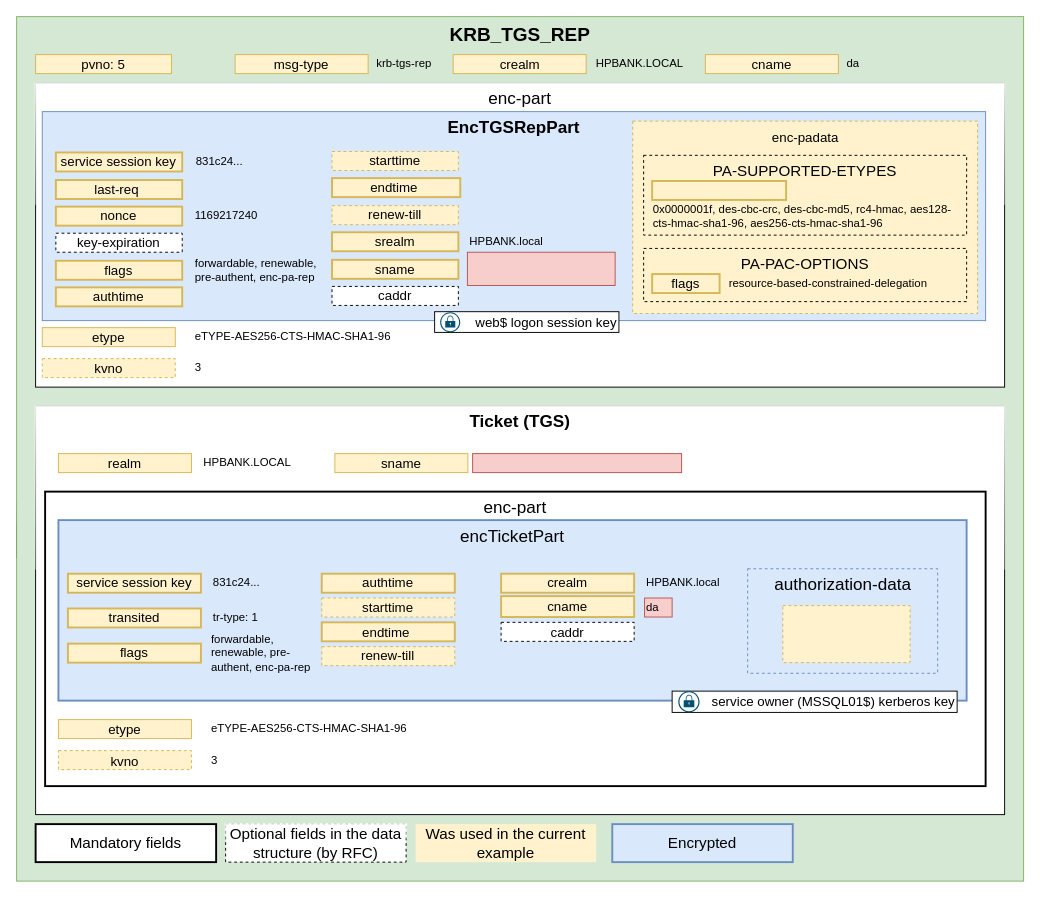
Some shapes in this 1040 by 898 pixel diagram are drawn without their labels. The centre of each missing label's shape, as x and y in pixels:
MSSQLSvc/ mssql01.hpbank.local:1433: the point at 540,268
MSSQLSvc/mssql01.hpbank.local:1433: the point at 577,463
PAC (da): the point at 846,634
SupportedEnctypes: the point at 719,190
